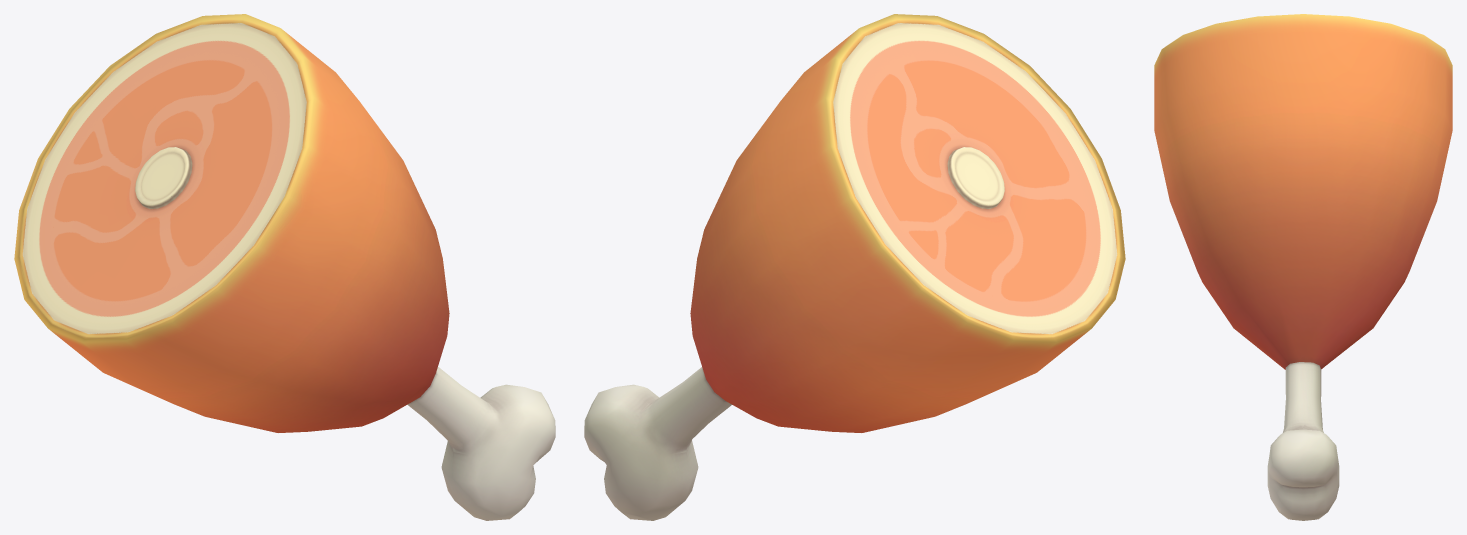
3 views of the same model, side by side, from view 1: azimuth 30°, elevation 25°; view 2: azimuth 150°, elevation 25°; view 3: azimuth 270°, elevation 25° (orthographic). The views are drawn at different scales.
Visible parts, largest first — view 1: Ham; view 2: Ham; view 3: Ham.
Part boxes in pixels (x1,y1,x2,y2): Ham: [14, 14, 555, 520]; Ham: [584, 14, 1125, 520]; Ham: [1154, 14, 1452, 520].
Size of the model in its own units: 0.7716 by 0.794 by 0.5061.
1 material, 1 textured.
